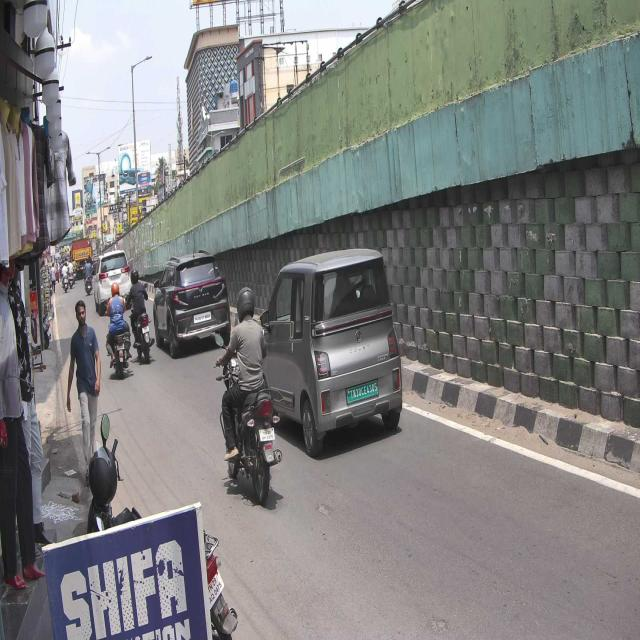single_rider: (212, 283, 283, 504)
